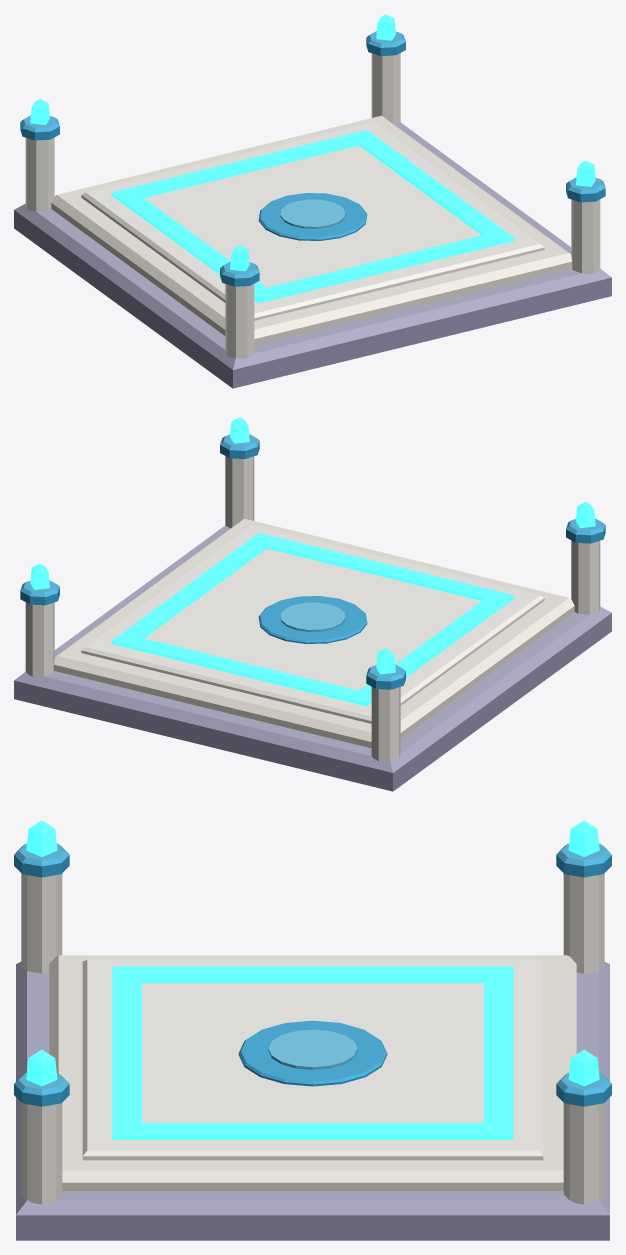
The model's file is Pad_7.glb.
3 views of the same model, one above another, from view 1: azimuth 30°, elevation 25°; view 2: azimuth 150°, elevation 25°; view 3: azimuth 270°, elevation 25° (orthographic). The views are drawn at different scales.
Visible parts, largest first — view 1: Pad_7, Pad_7_Glow_acc7; view 2: Pad_7, Pad_7_Glow_acc7; view 3: Pad_7, Pad_7_Glow_acc7.
Part boxes in pixels (x1,y1,x2,y2): Pad_7: (14, 31, 611, 388); Pad_7_Glow_acc7: (30, 14, 595, 303); Pad_7: (14, 434, 611, 791); Pad_7_Glow_acc7: (30, 417, 595, 706); Pad_7: (14, 843, 611, 1240); Pad_7_Glow_acc7: (26, 820, 599, 1139).
Bounding box in the file's own units: 16.1 × 5.35 × 16.1.
Materials: 2 (1 with a texture image).
